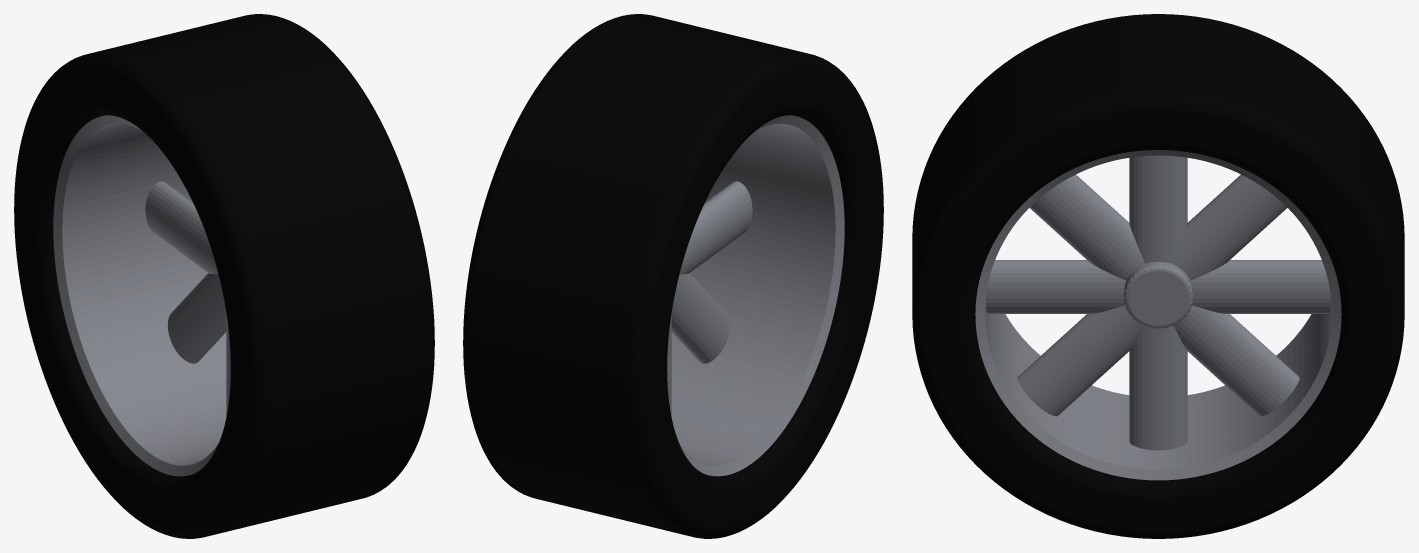
File: wheel.obj
3 renders of one model, left to right at view 1: azimuth 30°, elevation 25°; view 2: azimuth 150°, elevation 25°; view 3: azimuth 270°, elevation 25°, orthographic.
Parts seen in each view (by area): view 1: opony1.001_opony1.003, opony1.002_opony1.004; view 2: opony1.001_opony1.003, opony1.002_opony1.004; view 3: opony1.001_opony1.003, opony1.002_opony1.004.
Part boxes in pixels (box(x1,y1,x2,y2)): opony1.001_opony1.003: box(14, 14, 434, 538); opony1.002_opony1.004: box(53, 115, 230, 476); opony1.001_opony1.003: box(463, 14, 883, 538); opony1.002_opony1.004: box(667, 115, 844, 476); opony1.001_opony1.003: box(912, 14, 1404, 538); opony1.002_opony1.004: box(975, 150, 1341, 480).
Bounding box in the file's own units: 2.39 × 5.6 × 5.6.
Materials: 2 (2 with a texture image).
